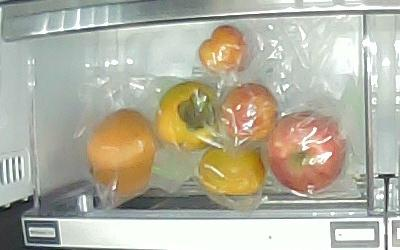apple_vinyl: (267, 111, 347, 191)
grapefruit_vinyl: (87, 109, 157, 194)
persimmon_vinyl: (156, 81, 224, 152), (199, 145, 266, 197)
prune_vinyl: (220, 83, 278, 143), (198, 25, 253, 75)
